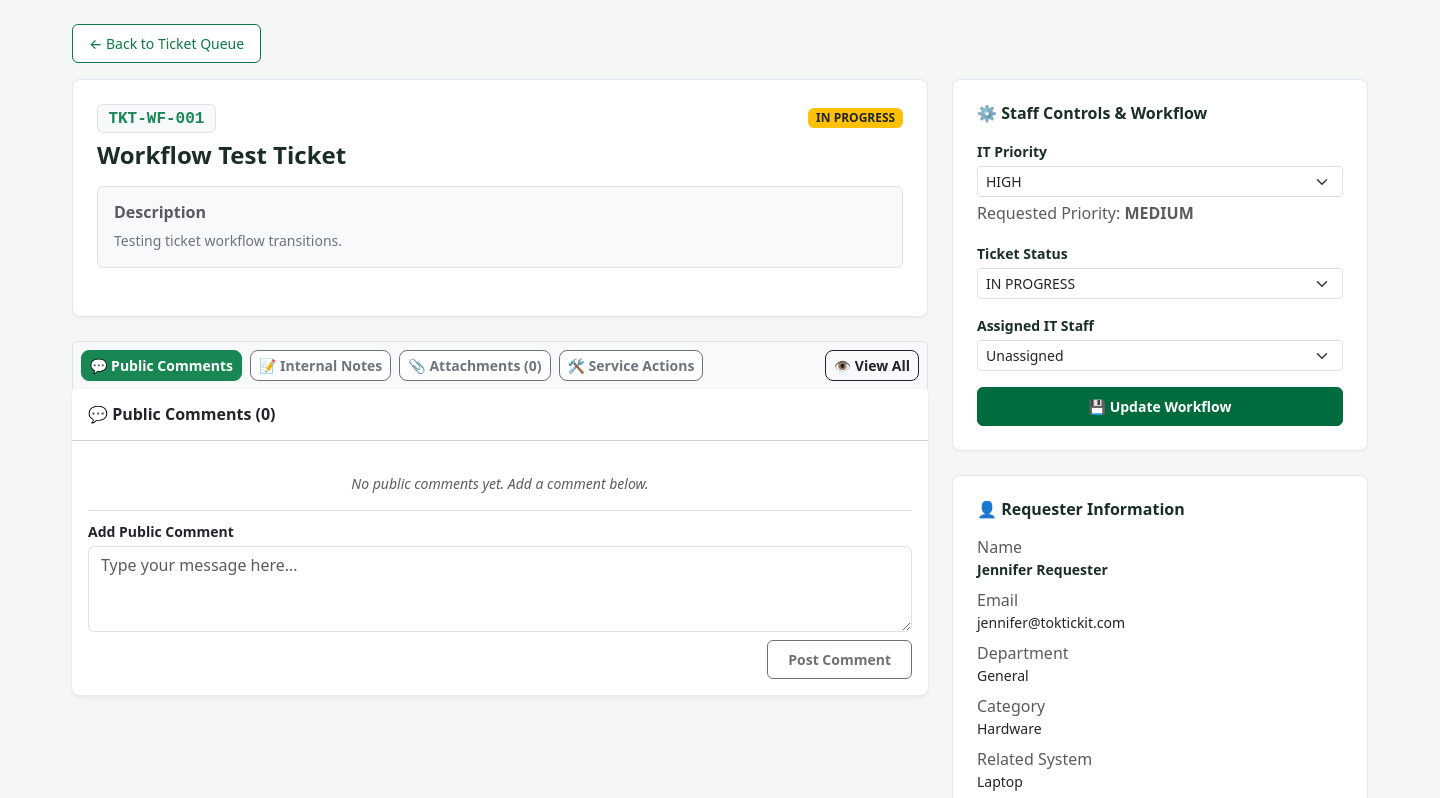
Test: Lab 4 Ticket Workflow & Resolution Gate UI Components › StaffTicketDetailView - Status Transitions & Resolution Gate › submits status transition with resolution summary and expectedUpdatedAt timestamp
This screenshot has width=1440, height=798.
Check: the heading "Workflow Test Ticket" is shown, box 97,138 -> 346,171
Select "RESOLVED" in the dropdown labelled "Ticket Status" at (1160, 284), box 977,268 -> 1343,299
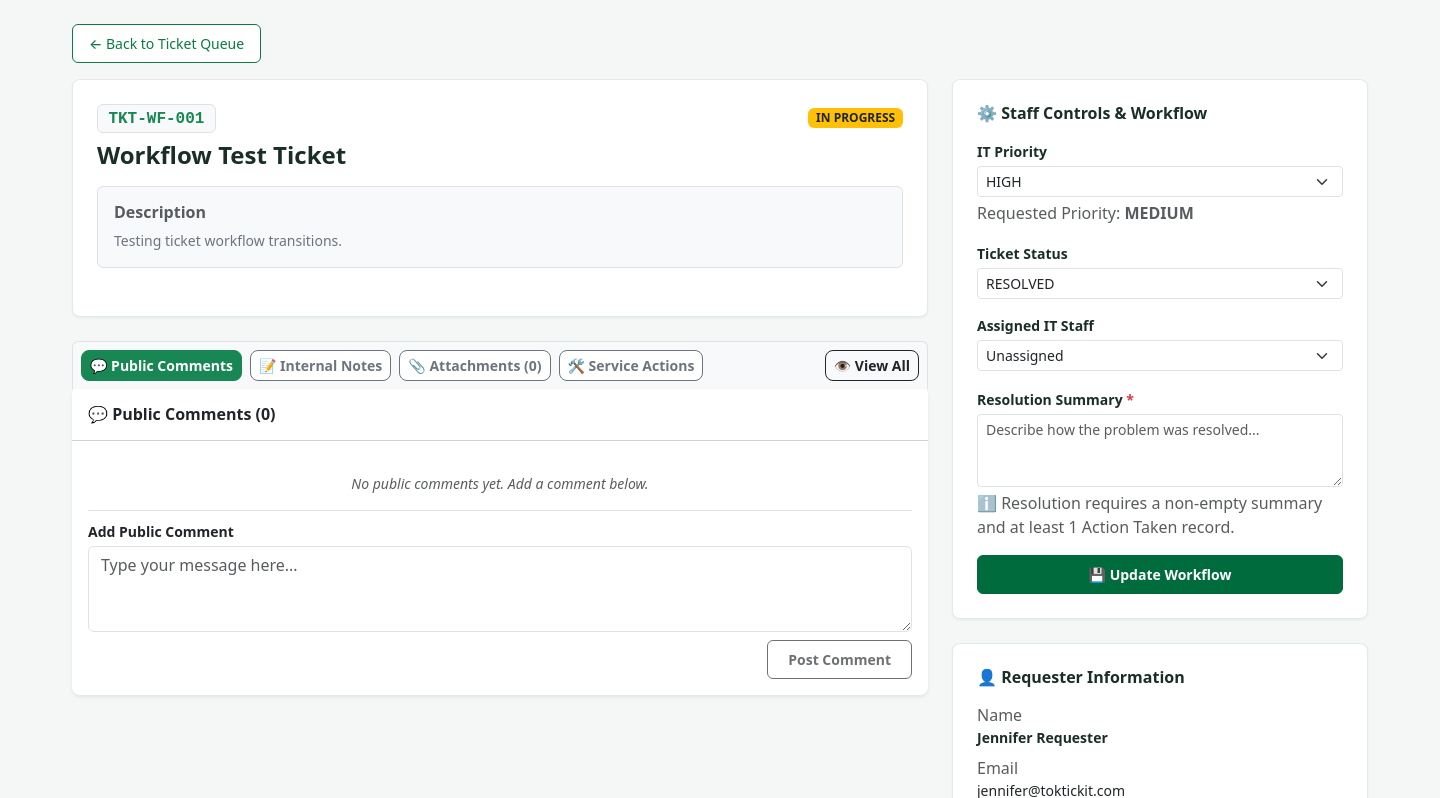
Type "Fixed system memory issue." into the text box with placeholder "Describe how the problem was resolved..." at (1160, 451), box 977,414 -> 1343,487
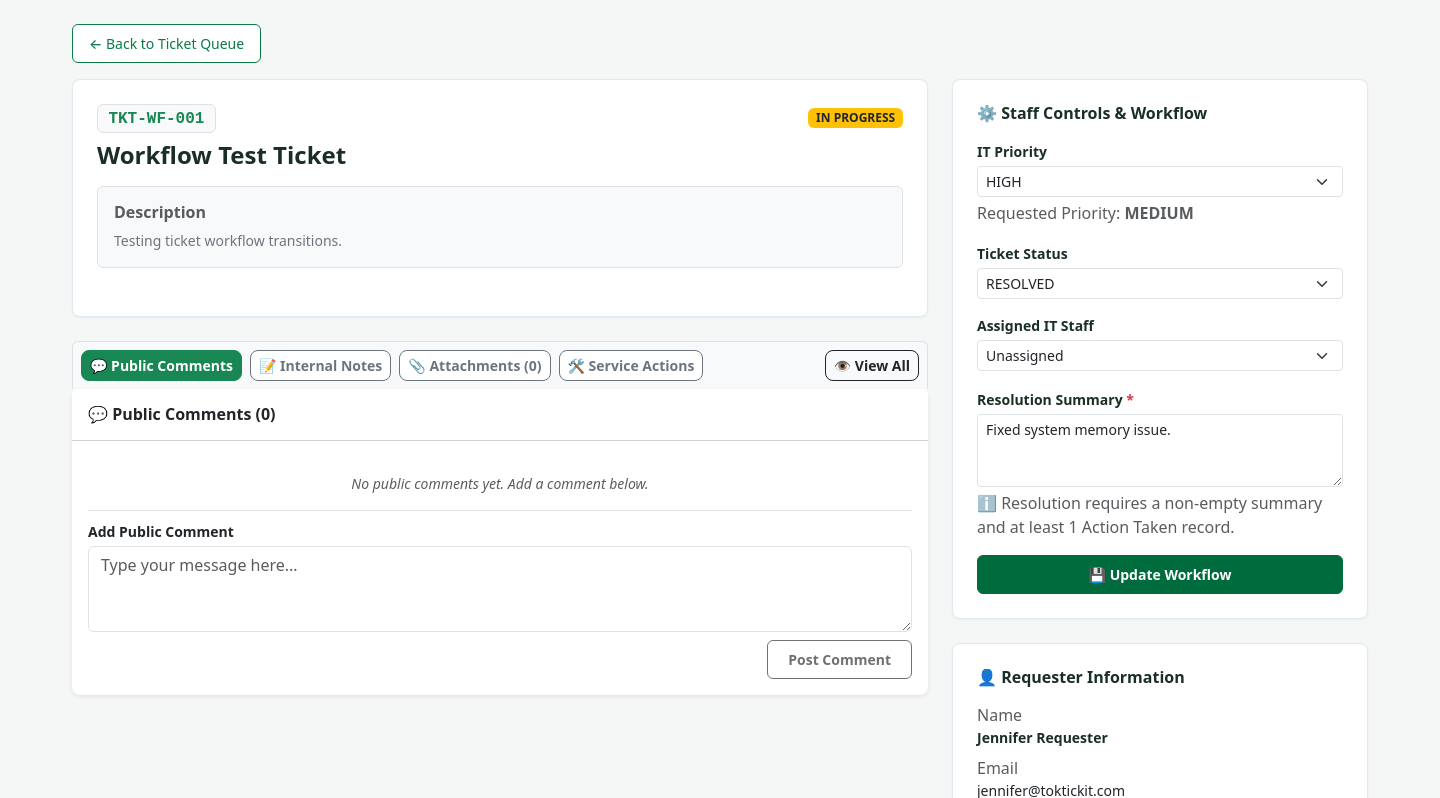
Click the button "💾 Update Workflow" at (1160, 575), box 977,555 -> 1343,594
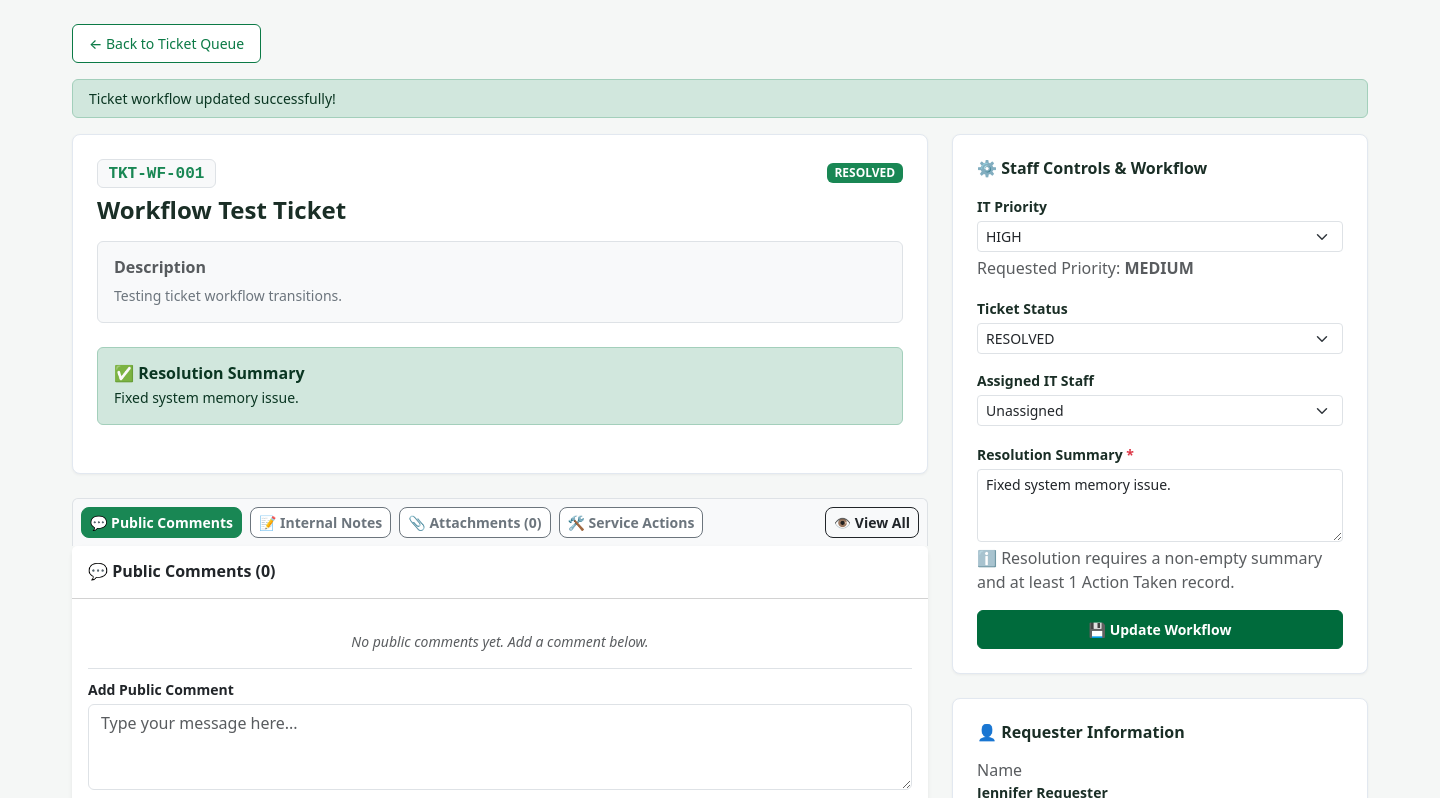
Check: the text "Ticket workflow updated successfully!" is shown, box 72,79 -> 1368,118
